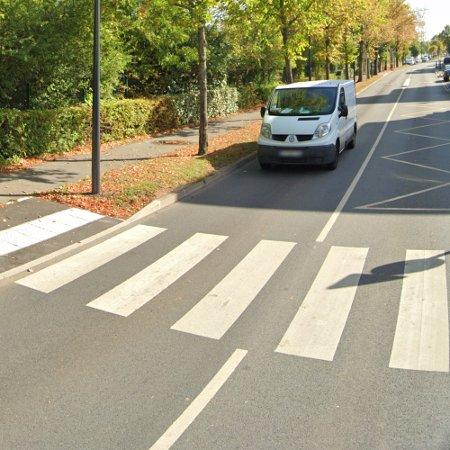crosswalks: (0, 206, 449, 376)
